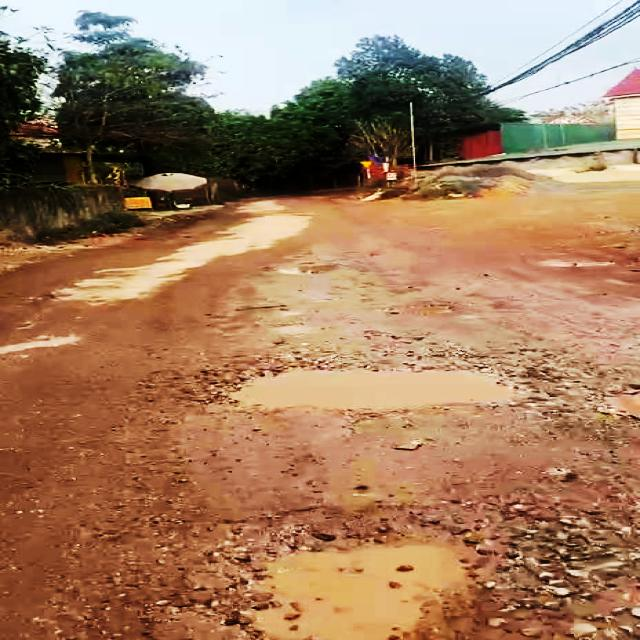pothole: (170, 513, 584, 640), (200, 353, 546, 423), (587, 377, 640, 420)
